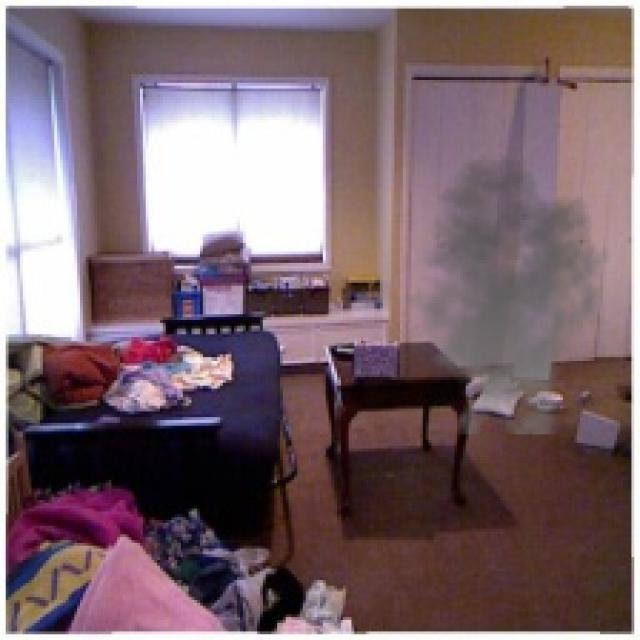Smoke: (397, 154, 612, 434)
